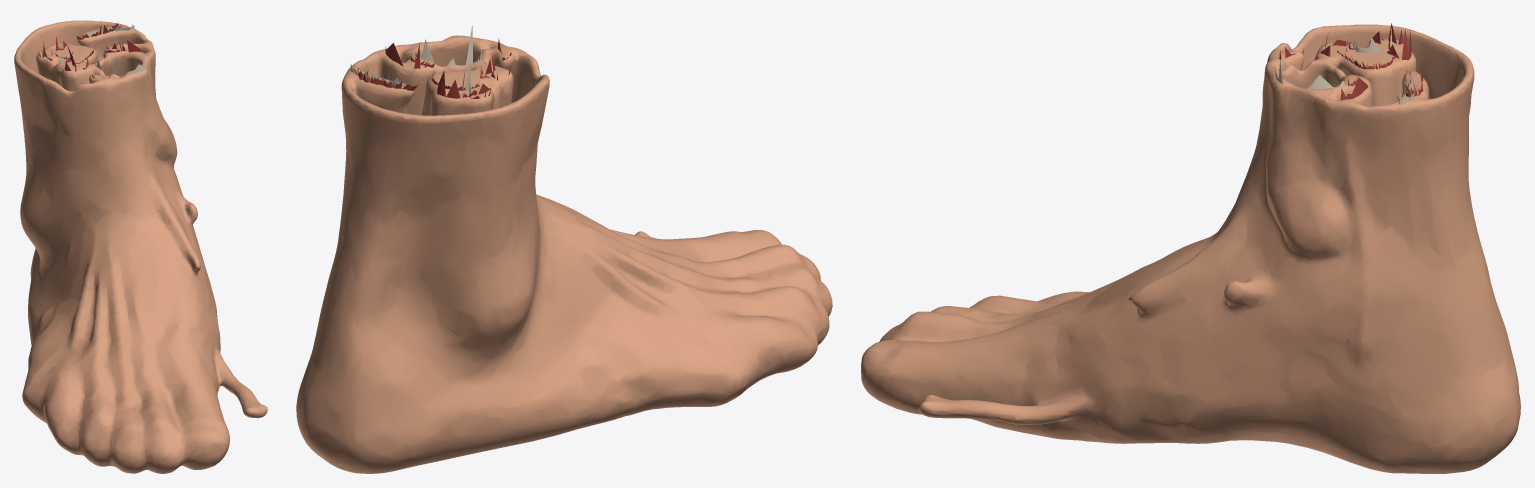
The model's file is foot-r.glb.
3 views of the same model, side by side, from view 1: azimuth 30°, elevation 25°; view 2: azimuth 150°, elevation 25°; view 3: azimuth 270°, elevation 25° (orthographic). The views are drawn at different scales.
Visible parts, largest first — view 1: skin, muscle; view 2: skin, muscle, bone; view 3: skin, muscle.
Part boxes in pixels (<box>): skin: <box>14,20,267,473</box>; muscle: <box>39,22,266,407</box>; skin: <box>296,35,832,473</box>; muscle: <box>358,38,511,98</box>; bone: <box>415,25,482,91</box>; skin: <box>861,24,1520,473</box>; muscle: <box>922,23,1423,406</box>.
Size of the model in its own units: 0.1337 by 0.1733 by 0.2431.
